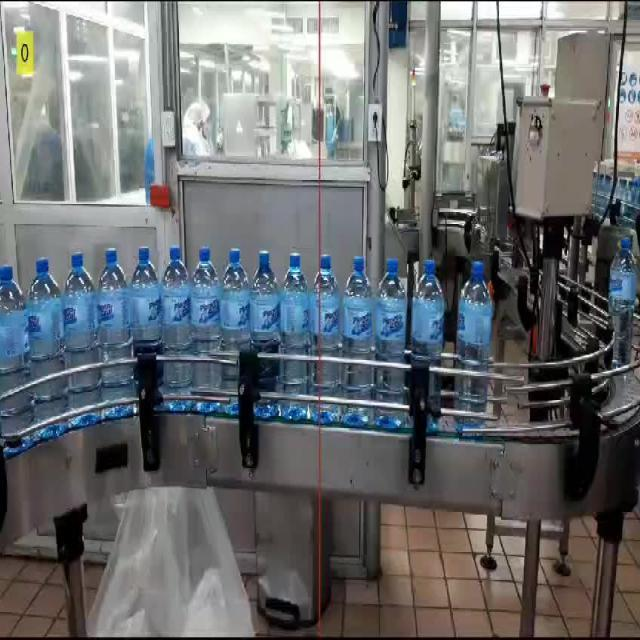bottle: (24, 256, 67, 424), (452, 259, 495, 426), (60, 250, 100, 411), (94, 246, 134, 405), (409, 258, 446, 424), (0, 264, 33, 440), (216, 245, 252, 392), (342, 254, 378, 401), (158, 244, 193, 391), (376, 256, 411, 403), (277, 250, 312, 392), (247, 248, 281, 389), (189, 245, 222, 390), (309, 252, 342, 394), (606, 235, 637, 372), (131, 244, 162, 370)
